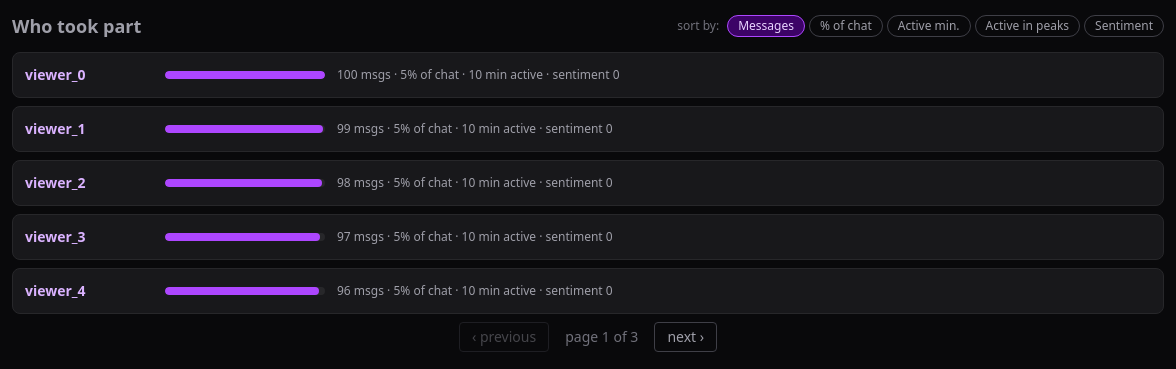
Test: ChattersSection › mostra 5 por página e navega
Check: the button "viewer_0" is shown, box [25, 65, 153, 85]
Check: the button "viewer_4" is shown, box [25, 281, 153, 301]
Click the button "next ›". click: click(686, 337)
box: [654, 322, 717, 352]
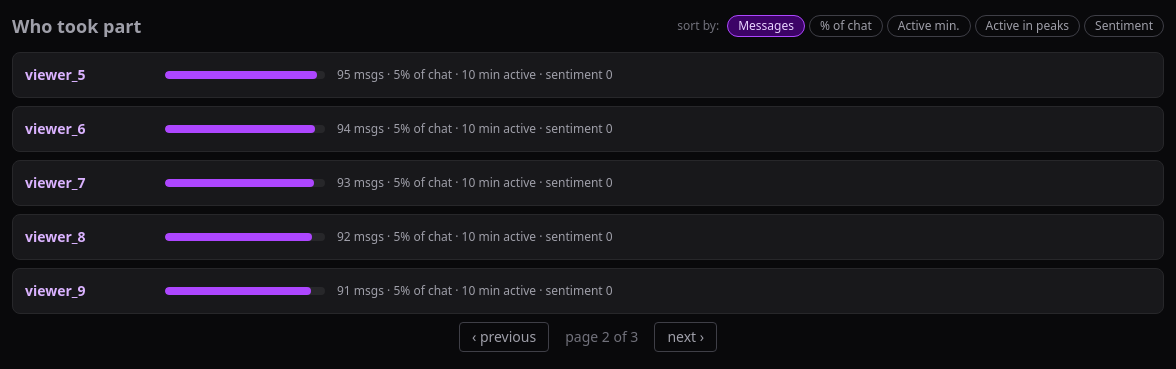
Check: the button "viewer_5" is shown, box [25, 65, 153, 85]
Check: the button "viewer_0" is gone
Click the button "next ›". click: click(686, 337)
box: [654, 322, 717, 352]
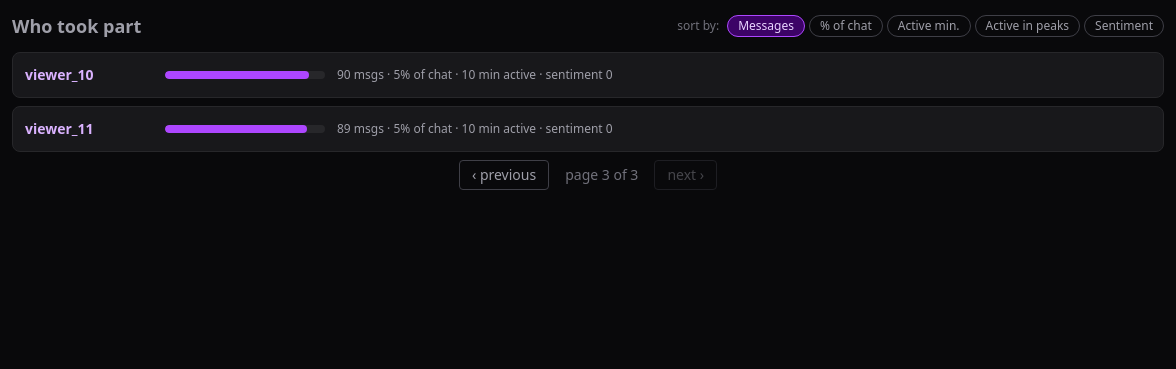
Check: the text "page 3 of 3" is shown, box [565, 165, 638, 185]
Check: the button "next ›" is disabled, box [654, 160, 717, 190]
